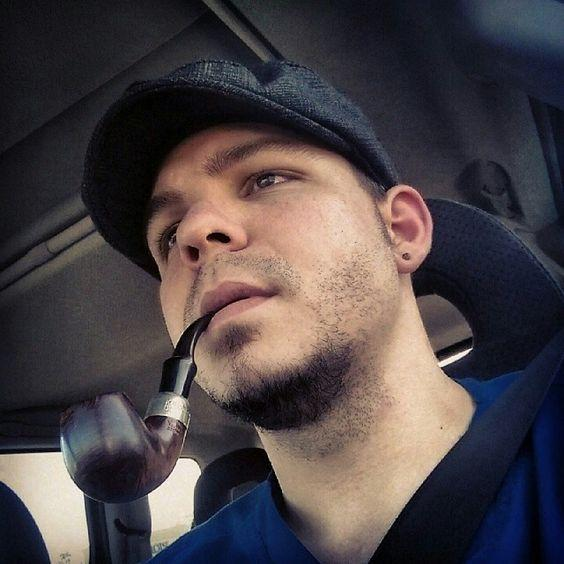trubka: (60, 317, 210, 503)
